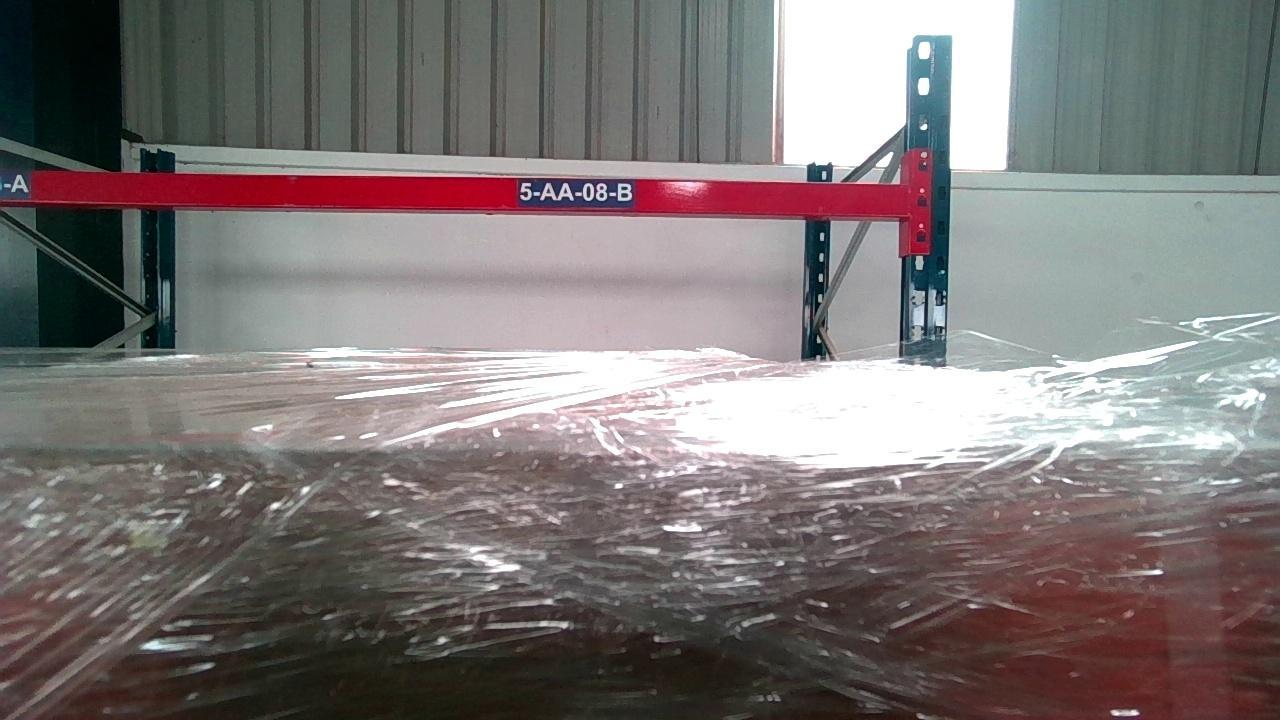h_rack: (0, 167, 906, 216)
